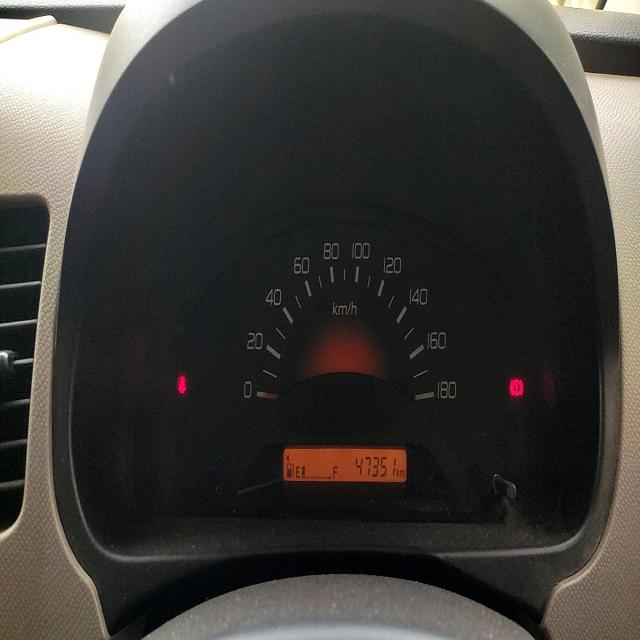odometer: (349, 450, 397, 483)
